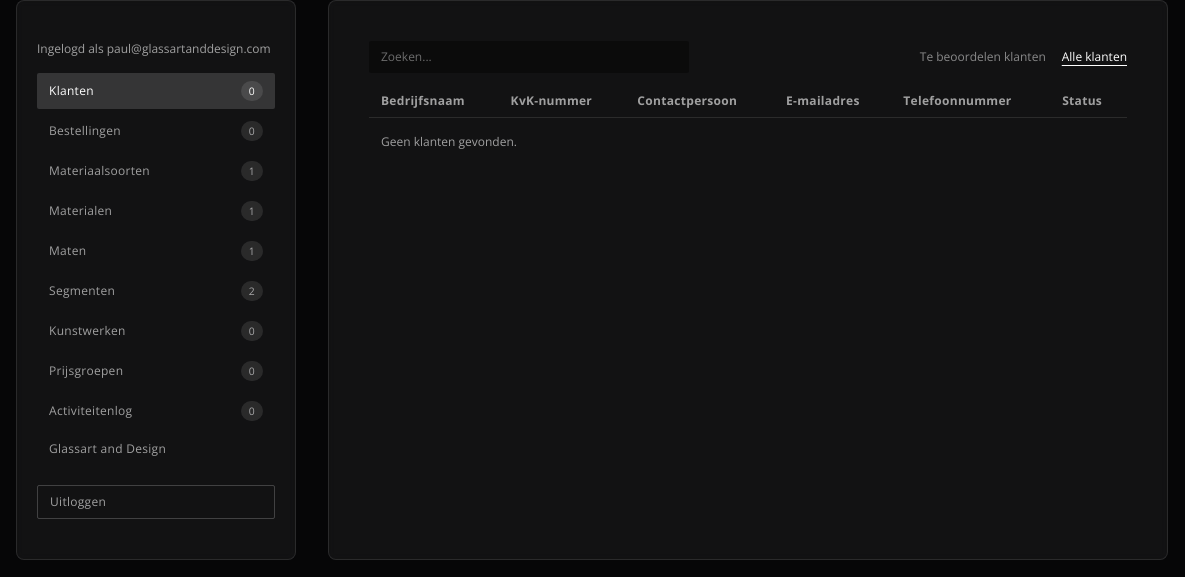
Test: BeheerShell › shows the segmenten count and switches to the Segmenten section
Click the button with test id "beheer-nav-segmenten" at [156, 291], box [37,273,275,309]
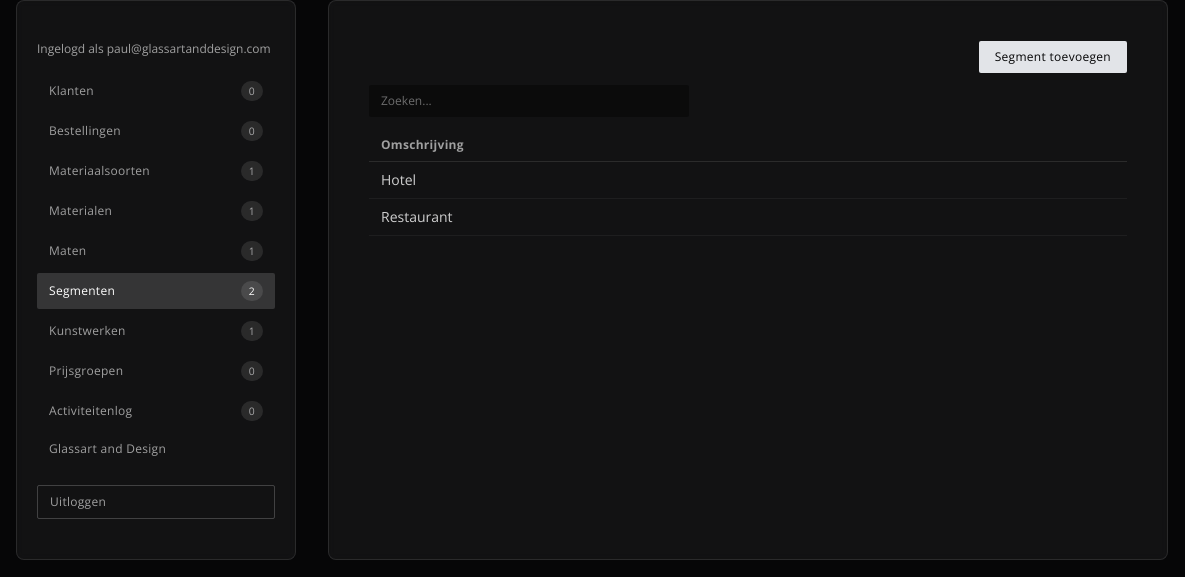
Expected: the element with test id "segmenten-section" is shown, [369,41,1127,236]
Expected: the row with test id "data-table-row-seg-1" reads "Hotel", [381,170,416,189]
